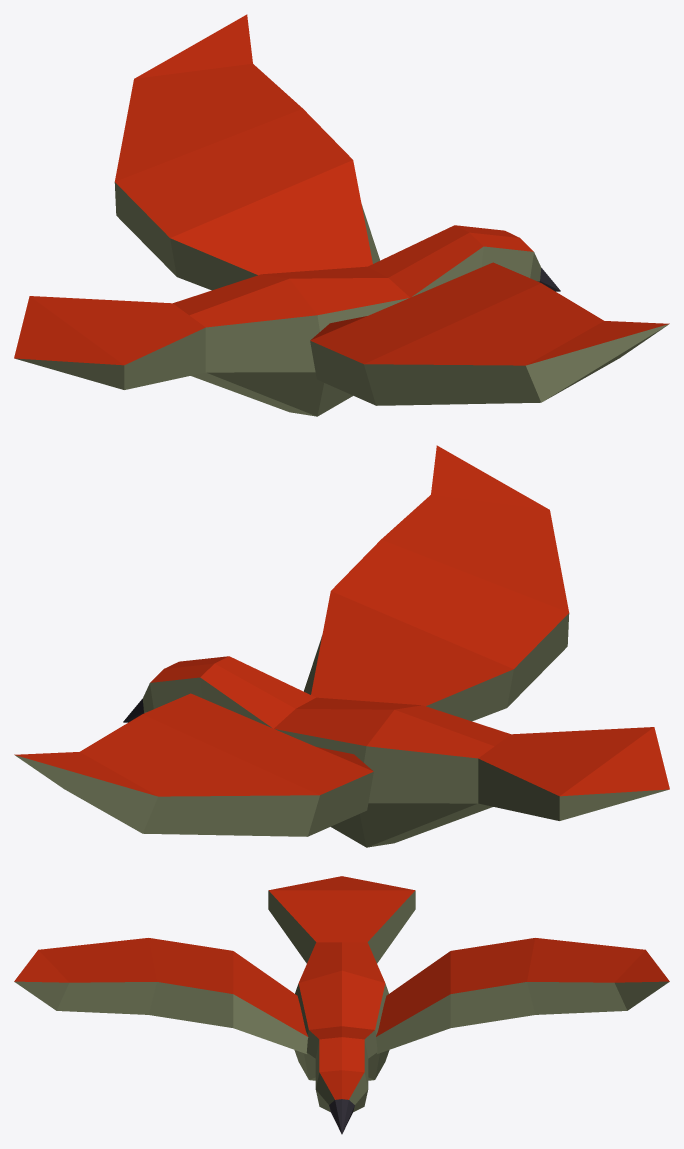
Rendered from Animal_Bird_001.fbx.
3 renders of one model, top to bottom at view 1: azimuth 30°, elevation 25°; view 2: azimuth 150°, elevation 25°; view 3: azimuth 270°, elevation 25°, orthographic. The views are drawn at different scales.
Visible parts, largest first — view 1: Animal_Bird_001; view 2: Animal_Bird_001; view 3: Animal_Bird_001.
Boxes of the visible parts, x1=… form: Animal_Bird_001: x1=14, y1=14, x2=669, y2=416; Animal_Bird_001: x1=14, y1=445, x2=669, y2=847; Animal_Bird_001: x1=14, y1=876, x2=669, y2=1134.
Size of the model in its own units: 109 by 38.53 by 146.
